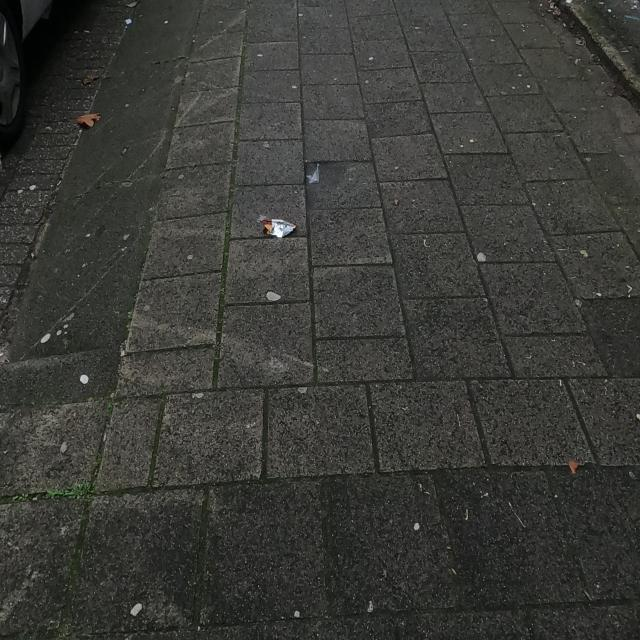Plastic: (262, 217, 297, 238), (308, 168, 320, 184)
